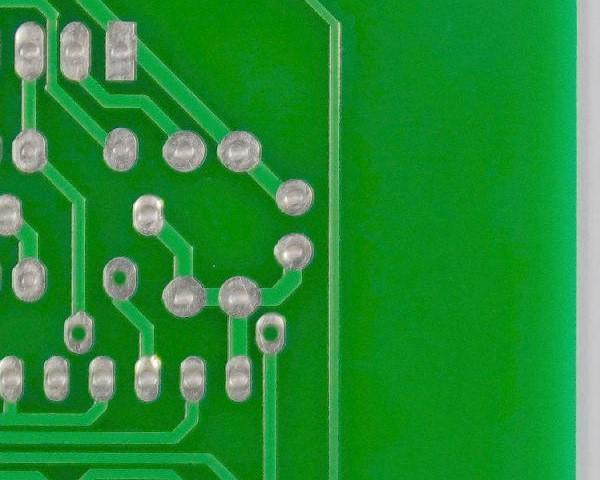missing hole: (98, 253, 144, 304), (60, 308, 102, 356), (251, 309, 290, 360)
